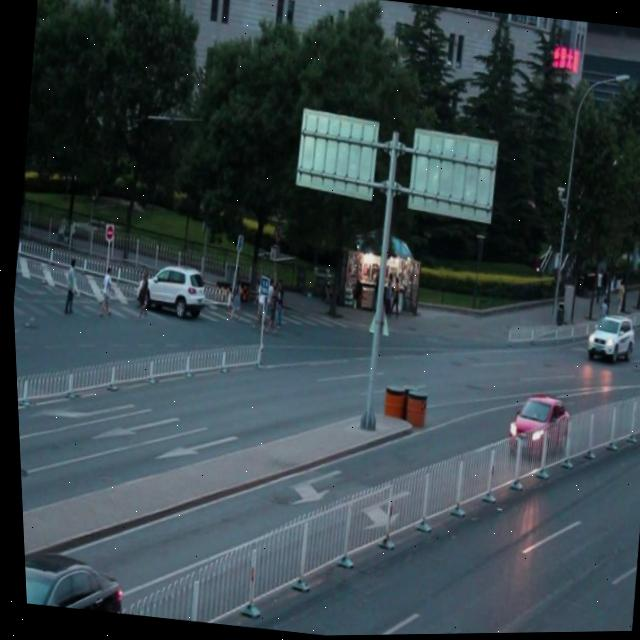car: (19, 541, 122, 615), (498, 391, 569, 461), (131, 259, 206, 320), (580, 312, 632, 362)
